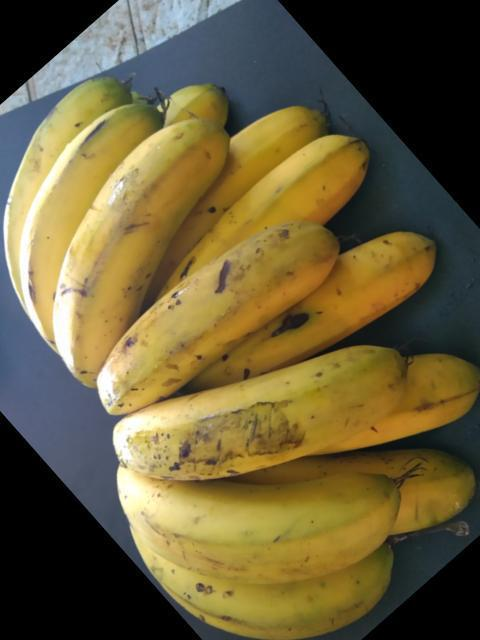ripe: (72, 228, 333, 429), (87, 324, 404, 489), (45, 136, 210, 360), (104, 441, 394, 567), (242, 221, 457, 377), (186, 136, 373, 298), (4, 100, 141, 315), (112, 552, 399, 631)
